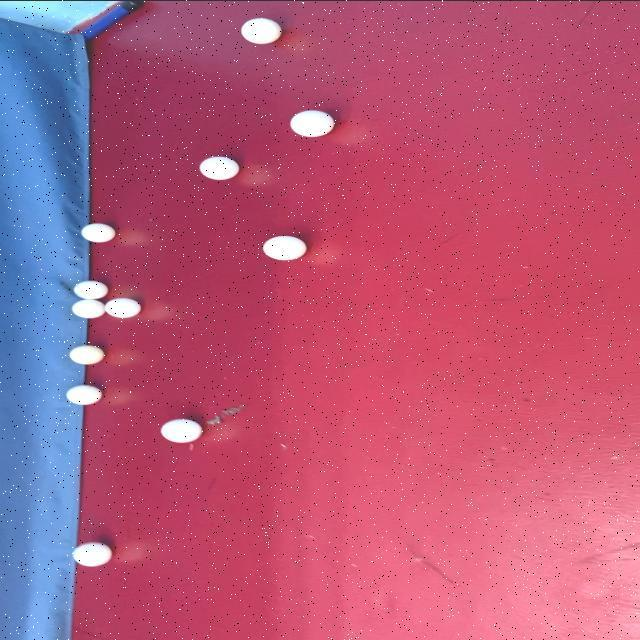ping-pong-ball: (287, 105, 340, 139), (258, 232, 312, 262), (67, 538, 117, 570), (240, 15, 286, 46), (195, 154, 243, 182), (155, 417, 207, 442), (63, 381, 109, 408), (76, 220, 120, 243), (102, 296, 144, 320), (68, 342, 106, 368), (71, 278, 113, 298), (70, 296, 106, 318)
